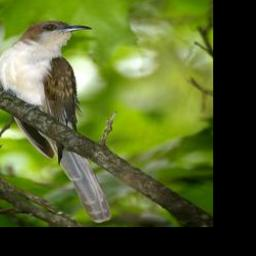Cuckoo: (0, 19, 113, 222)
